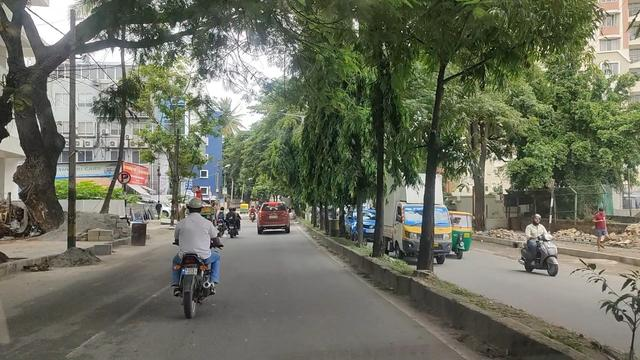LMV: (172, 196, 208, 307), (258, 200, 288, 236)
